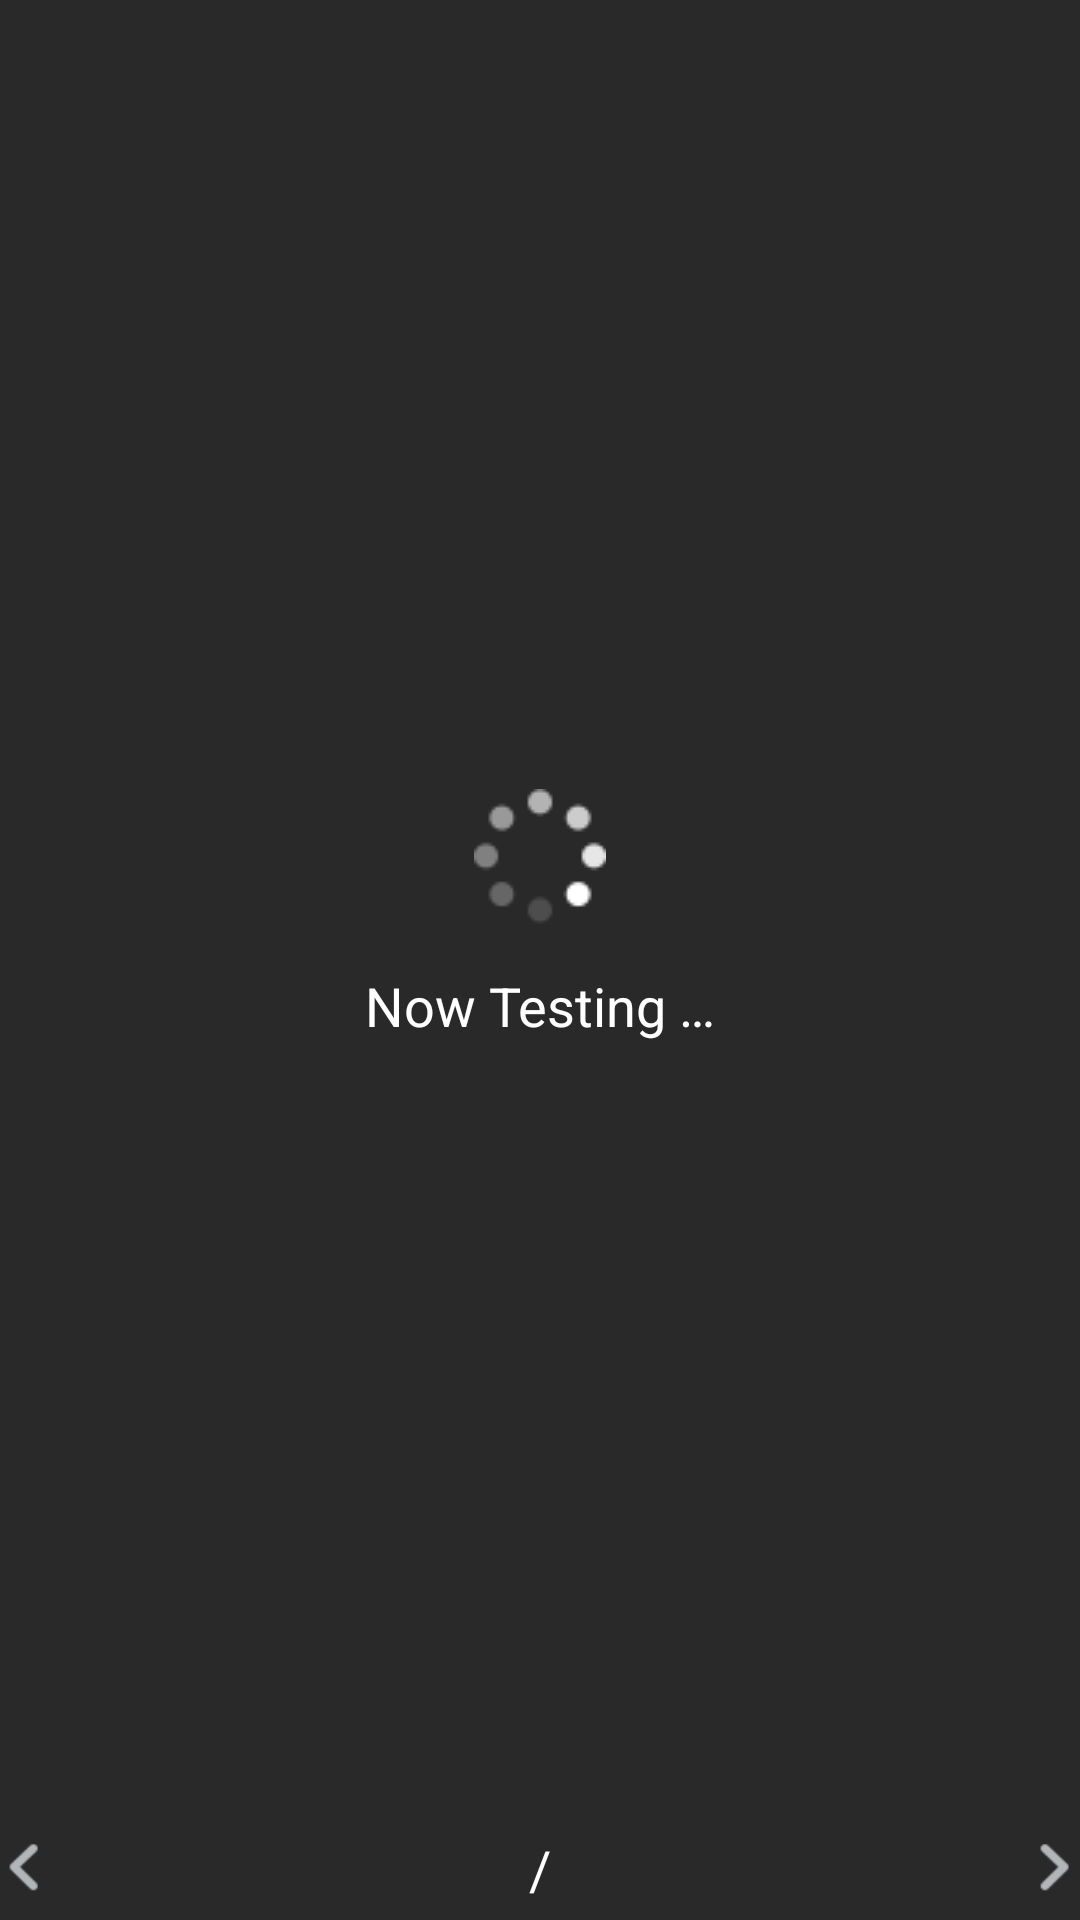

Point at icon controls on the screen. Image size 1080x1920, points as [x,y].
asus diagnostic loading: [540,855]
asus diagnostic next: [1054,1867]
asus diagnostic previous: [23,1867]
